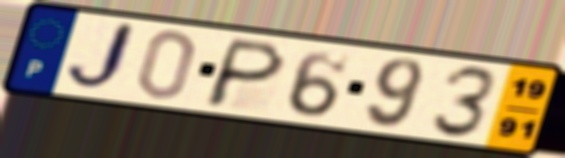0: (133, 28, 199, 102)
3: (430, 63, 498, 140)
6: (285, 48, 351, 119)
9: (361, 56, 432, 130)
J: (62, 19, 141, 95)
P: (199, 36, 290, 111)
